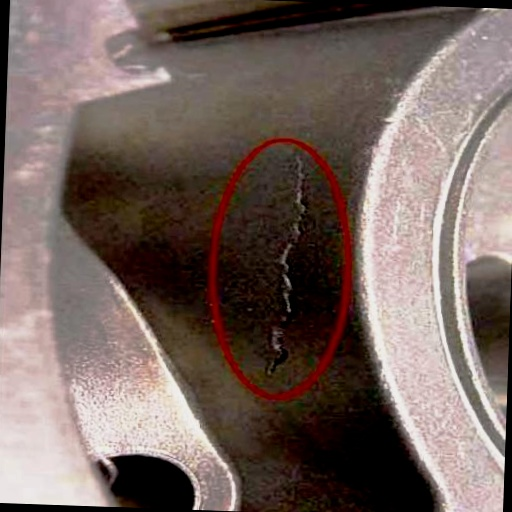crack: (260, 141, 317, 383)
